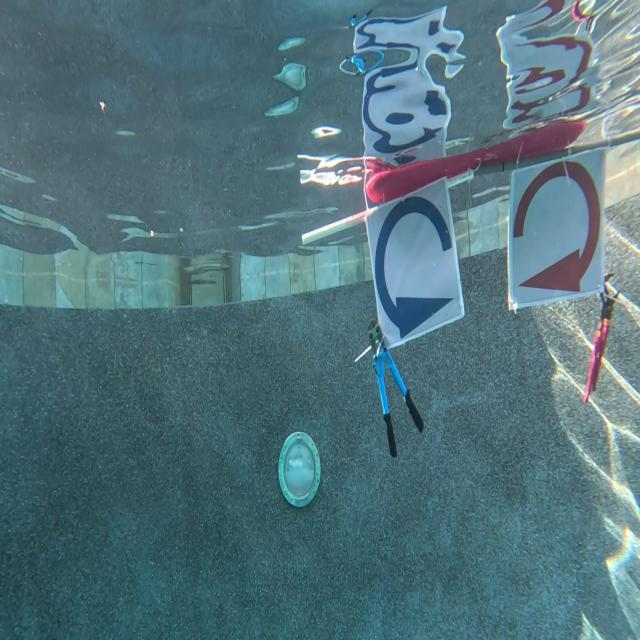blue_side: (373, 192, 457, 342)
red_side: (512, 146, 599, 300)
